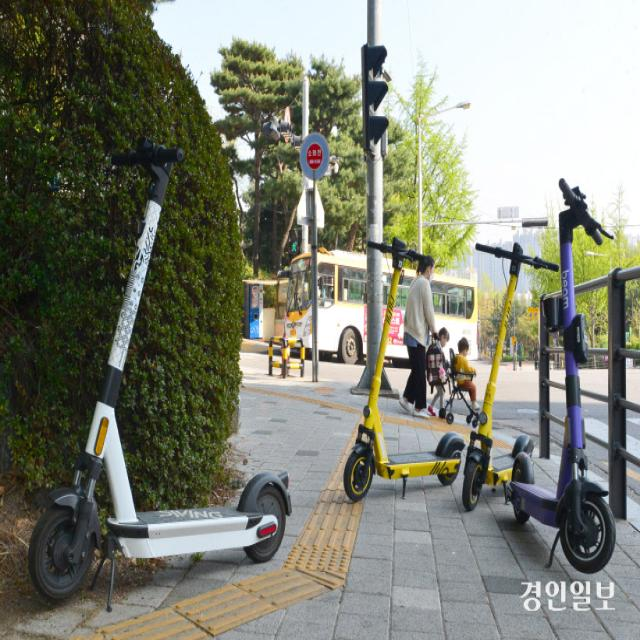kickboard_no: (36, 490, 279, 597), (501, 463, 616, 577), (352, 426, 464, 498)
tactile_paving: (296, 489, 348, 604)
